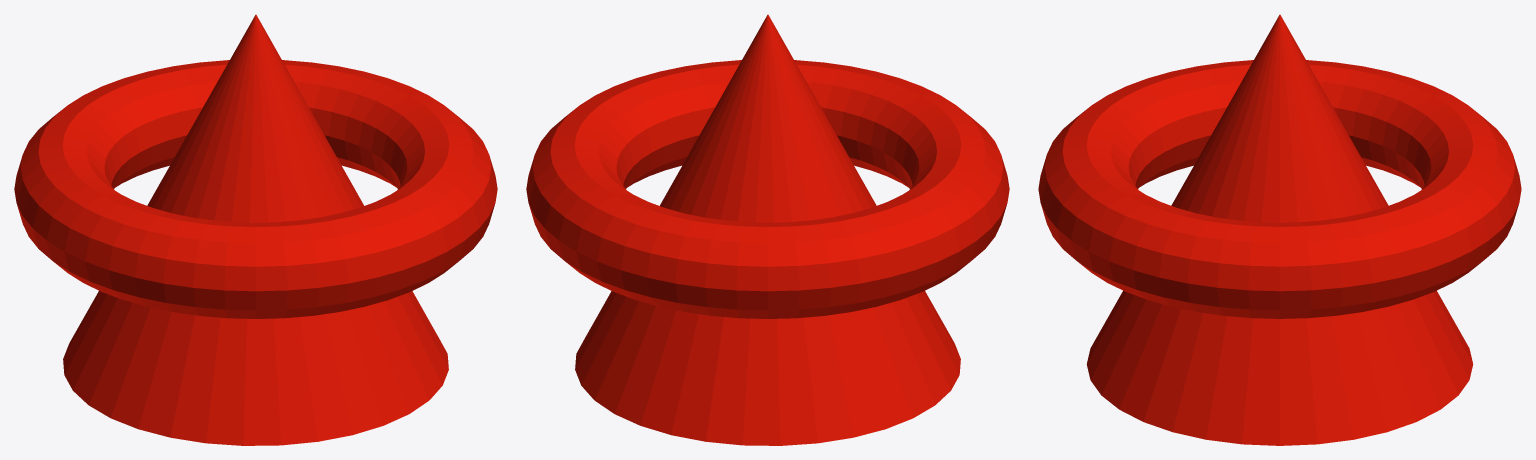
Rendered from objet.fbx.
3 renders of one model, left to right at view 1: azimuth 30°, elevation 25°; view 2: azimuth 150°, elevation 25°; view 3: azimuth 270°, elevation 25°, orthographic.
Parts seen in each view (by area): view 1: Torus; view 2: Torus; view 3: Torus.
Part boxes in pixels (<box>): Torus: <box>14,14,497,445</box>; Torus: <box>526,14,1009,445</box>; Torus: <box>1038,14,1521,445</box>.
Bounding box in the file's own units: 2.5 × 2 × 2.5.
